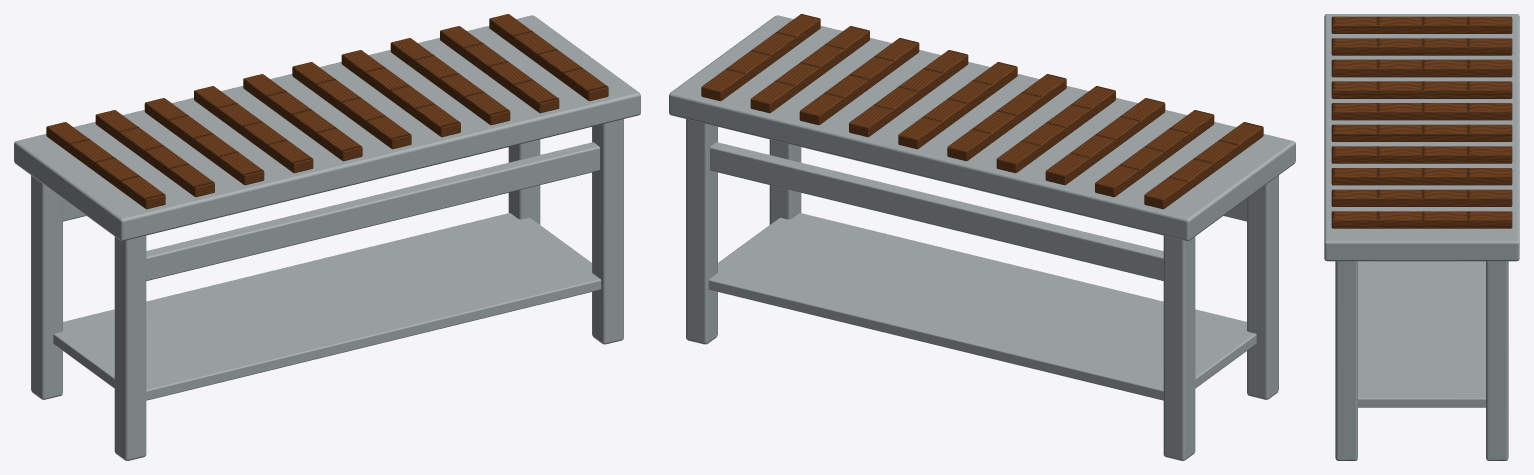
The model's file is grow-bench.glb.
3 renders of one model, left to right at view 1: azimuth 30°, elevation 25°; view 2: azimuth 150°, elevation 25°; view 3: azimuth 270°, elevation 25°, orthographic. The views are drawn at different scales.
Visible parts, largest first — view 1: seedling-bench; view 2: seedling-bench; view 3: seedling-bench.
Part boxes in pixels (left/top/right/bottom): seedling-bench: left=14, top=14, right=640, bottom=460; seedling-bench: left=669, top=14, right=1295, bottom=460; seedling-bench: left=1324, top=14, right=1519, bottom=460.
Size of the model in its own units: 1.8 by 0.8599 by 0.65.
Materials: 2 (1 with a texture image).
